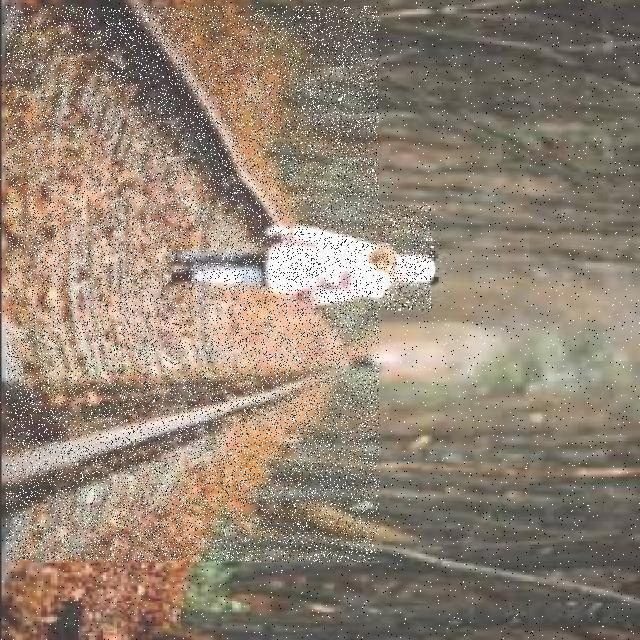rail: (8, 8, 380, 563)
